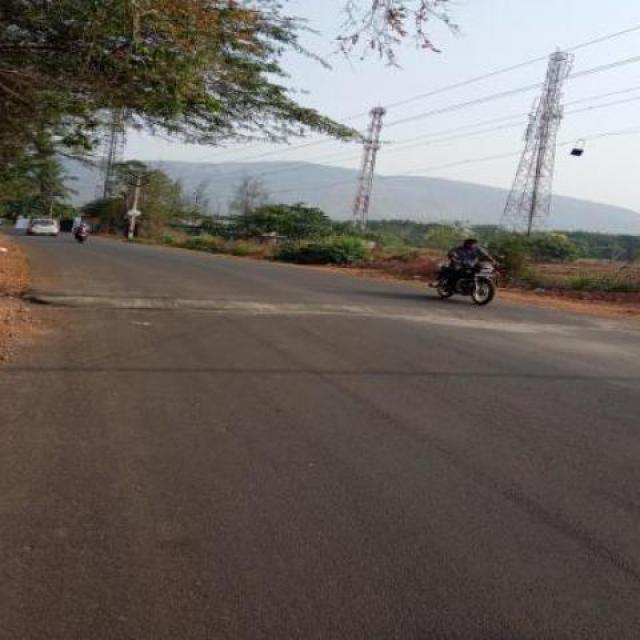Unmarked Bump: (26, 293, 600, 331)
